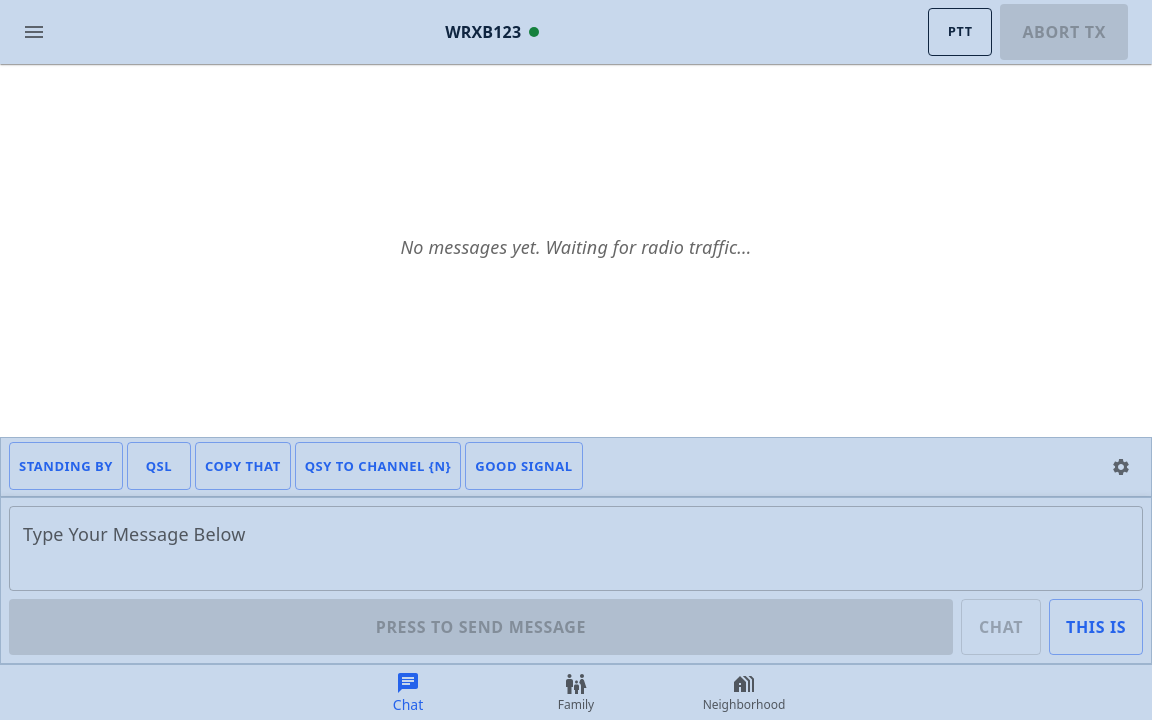
it: MobileApp — non-kid mode › shows the Listen-only switch in the drawer for a non-kid account
Click the button named "open menu".
click(34, 32)  # box [12, 10, 56, 54]
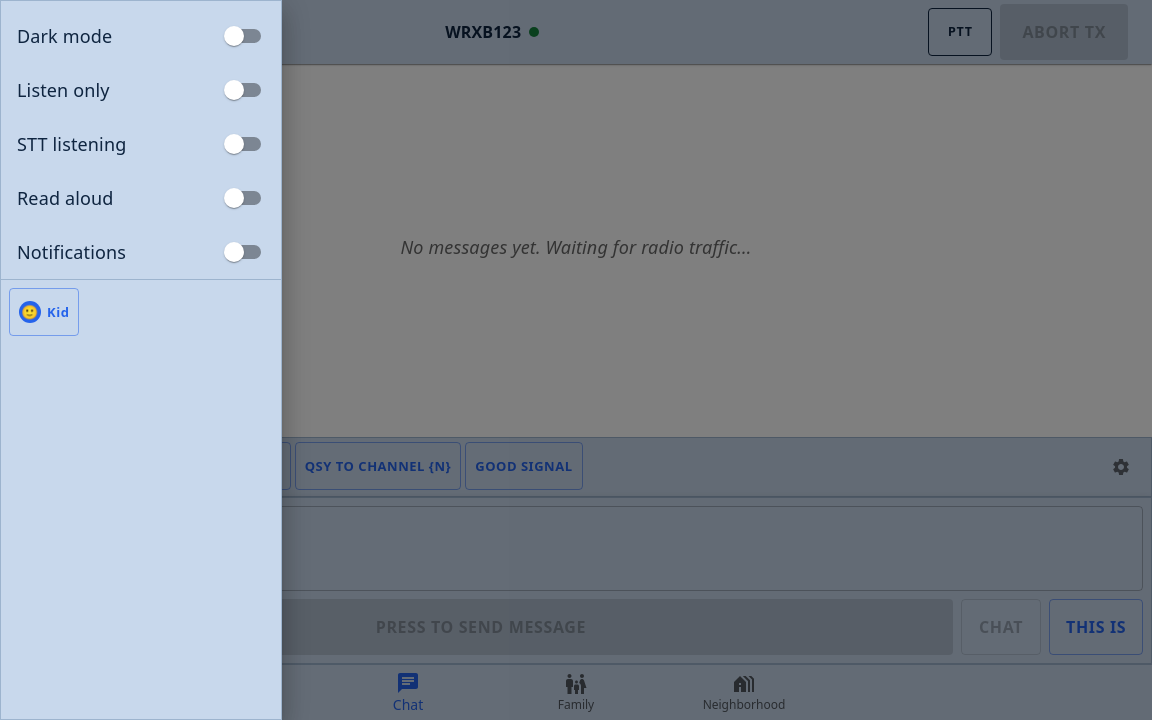
Result: the switch named "Listen only" is shown at [224, 80, 244, 100]
